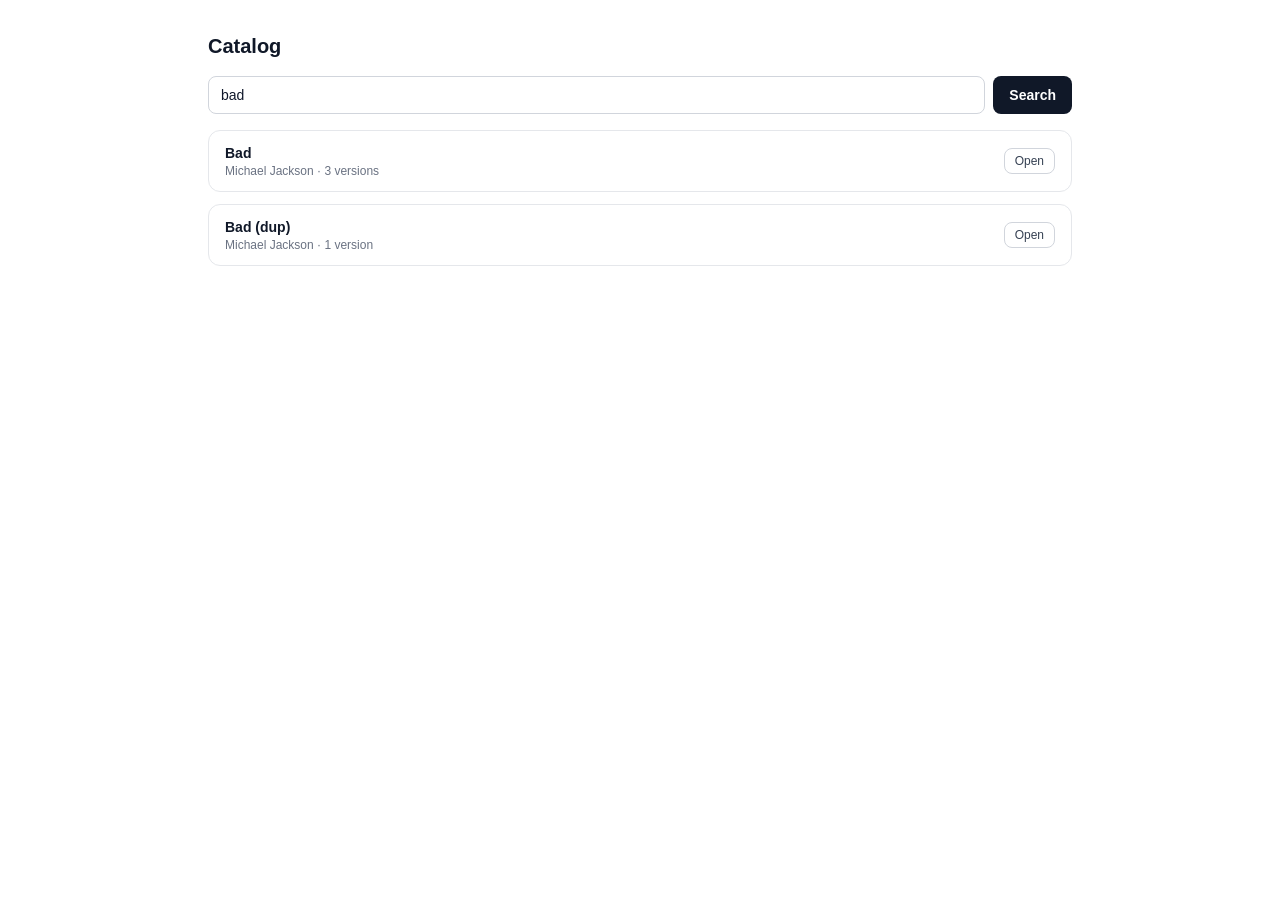
it: delete › shows the server refusal and does not refresh
Click the button "Open" in the row of "versions" at (1029, 161), box [1004, 148, 1055, 174]
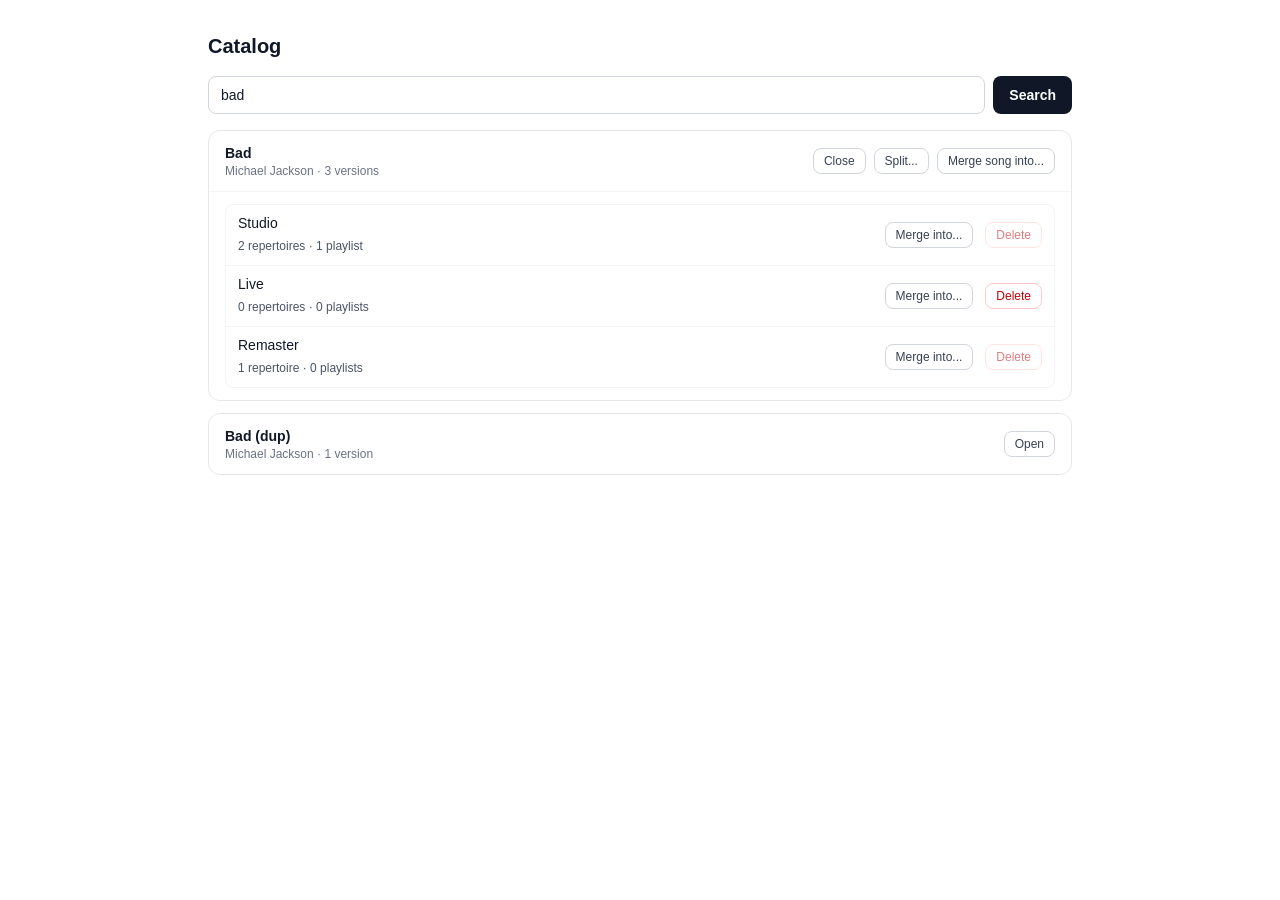
Click the button with aria-label "Delete Live" at (1014, 296), box [985, 283, 1042, 309]
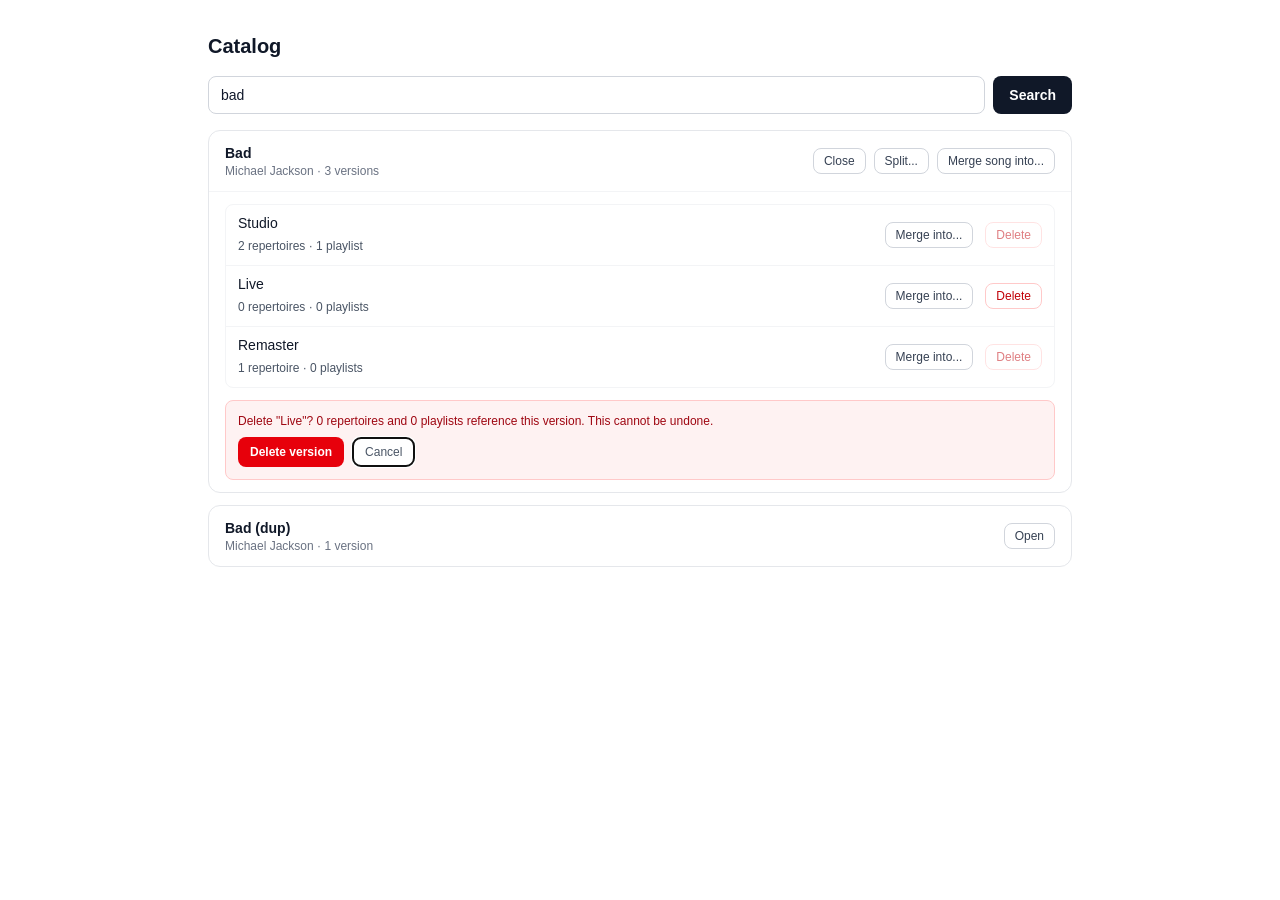
Click the button "Delete version" at (291, 452), box [238, 437, 344, 467]
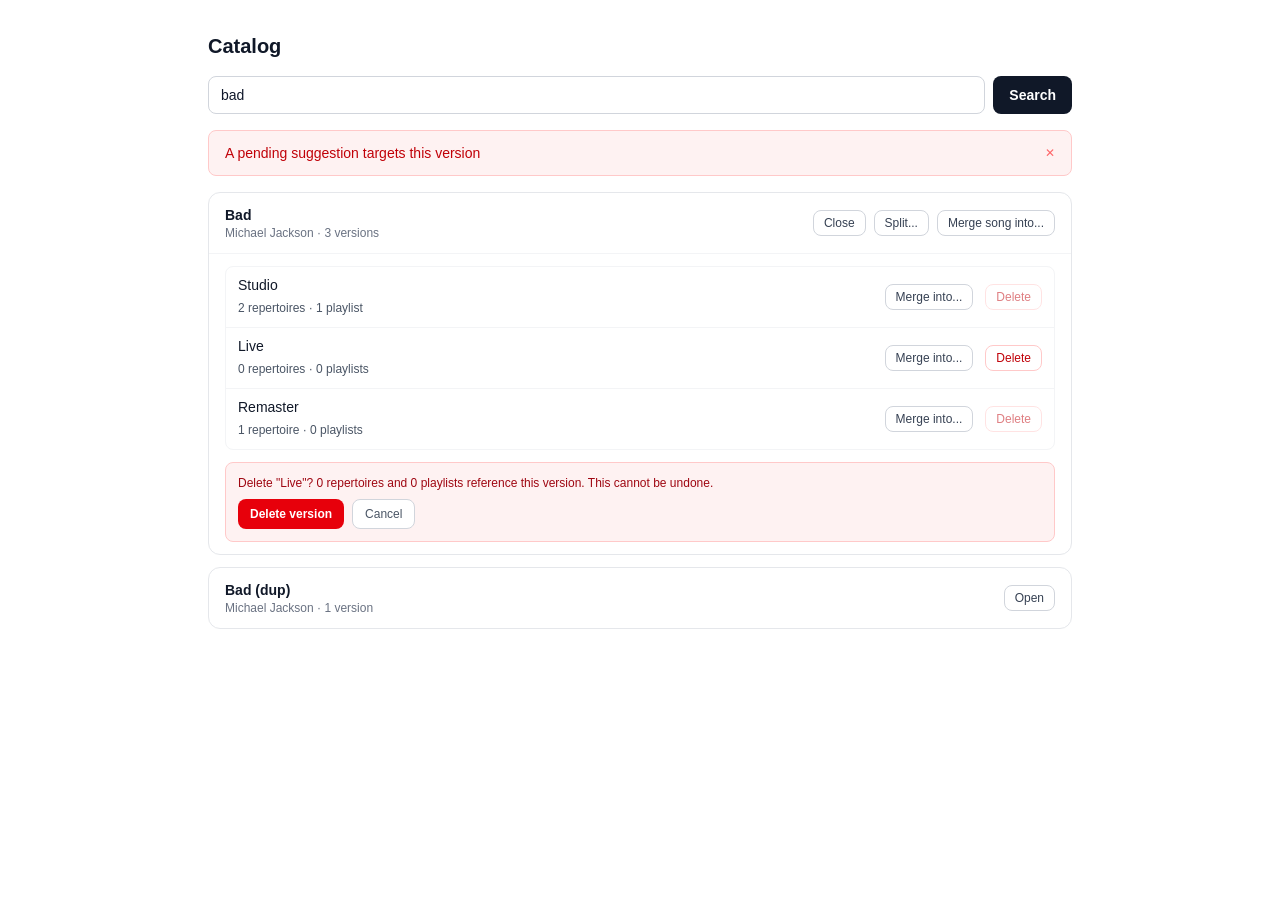
Now the message shows "A pending suggestion", box [225, 145, 480, 161]
